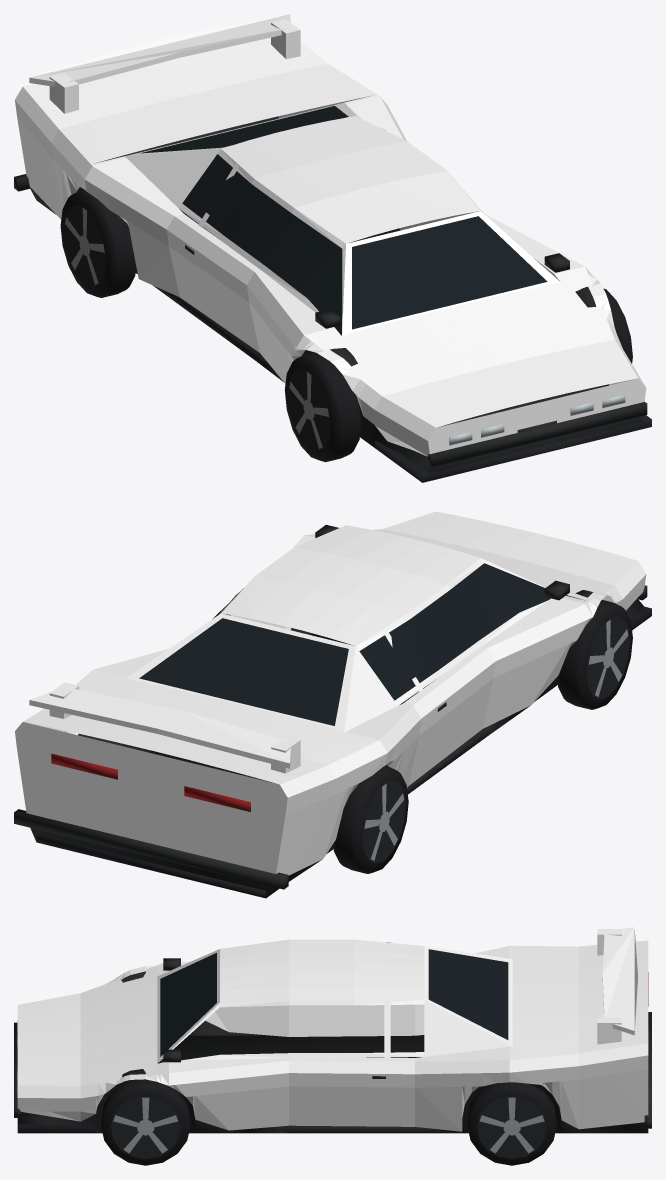
File: corsalto_cobalita.glb
3 views of the same model, one above another, from view 1: azimuth 30°, elevation 25°; view 2: azimuth 150°, elevation 25°; view 3: azimuth 270°, elevation 25° (orthographic). The views are drawn at different scales.
Visible parts, largest first — view 1: Body_Paint, Body_Details, Mount_FrontLeft_Wheel_Details, Mount_RearLeft_Wheel_Details, Mount_FrontRight_Wheel_Details; view 2: Body_Paint, Body_Details, Mount_RearLeft_Wheel_Details, Mount_FrontLeft_Wheel_Details; view 3: Body_Paint, Body_Details, Mount_FrontRight_Wheel_Details, Mount_RearRight_Wheel_Details.
Boxes of the visible parts, x1,y1,x2,y2 form: Body_Paint: (15, 14, 646, 456); Body_Details: (14, 106, 651, 482); Mount_FrontLeft_Wheel_Details: (284, 352, 361, 462); Mount_RearLeft_Wheel_Details: (60, 189, 136, 297); Mount_FrontRight_Wheel_Details: (603, 288, 632, 363); Body_Paint: (15, 511, 646, 875); Body_Details: (14, 524, 651, 898); Mount_RearLeft_Wheel_Details: (333, 765, 408, 873); Mount_FrontLeft_Wheel_Details: (557, 600, 632, 709); Body_Paint: (17, 927, 648, 1131); Body_Details: (14, 949, 651, 1133); Mount_FrontRight_Wheel_Details: (100, 1079, 190, 1165); Mount_RearRight_Wheel_Details: (467, 1082, 556, 1165).
Size of the model in its own units: 2.1 by 1.14 by 4.68.
2 materials, 1 textured.
